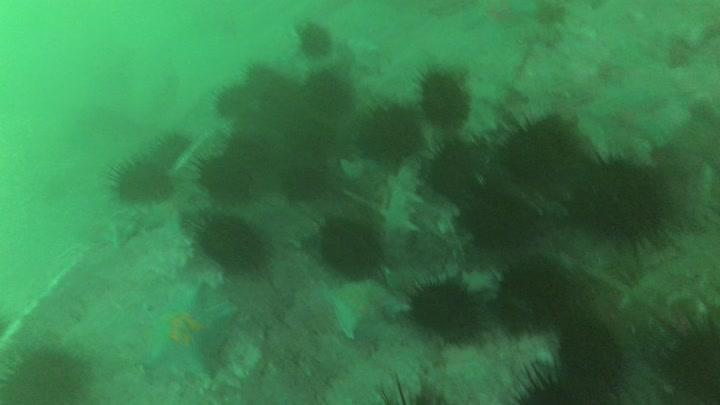urchin: (571, 154, 669, 257), (650, 303, 720, 403), (492, 252, 567, 340), (503, 109, 579, 195), (405, 271, 485, 352), (554, 307, 627, 388), (1, 341, 89, 403), (311, 211, 383, 281), (421, 133, 489, 205), (458, 193, 527, 260), (354, 101, 425, 165), (195, 209, 266, 273), (414, 67, 479, 128), (515, 360, 592, 405), (257, 75, 312, 132), (109, 157, 174, 204), (228, 128, 289, 178), (298, 66, 350, 118), (197, 152, 250, 203), (288, 116, 336, 170), (277, 164, 325, 206), (291, 17, 335, 60), (213, 81, 256, 125), (150, 132, 194, 163)
